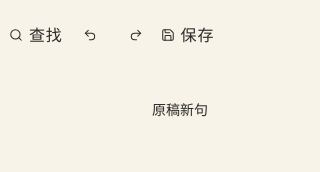
Test: Android editor compatibility › offers touch undo, redo and save using the current document
Later steps or results of the test are not shown.
Click the button named "撤销". click: (90, 35)
box: [70,15,110,55]
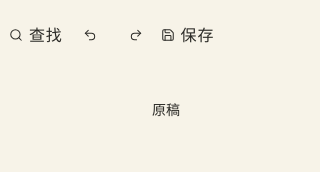
Click the button named "重做". click: (136, 35)
box: [116,15,156,55]
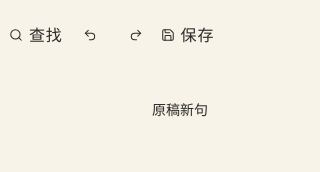
Result: the text box labelled "原稿新句" is shown at [152,103,208,118]
